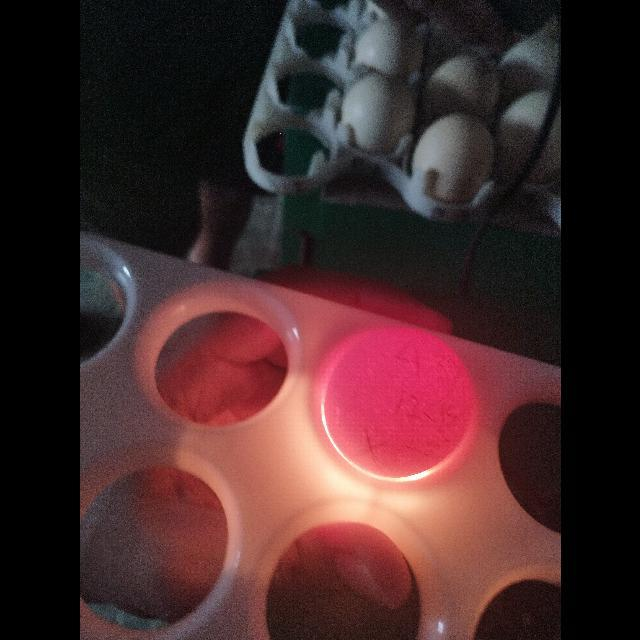Infertile: (320, 324, 476, 481)
